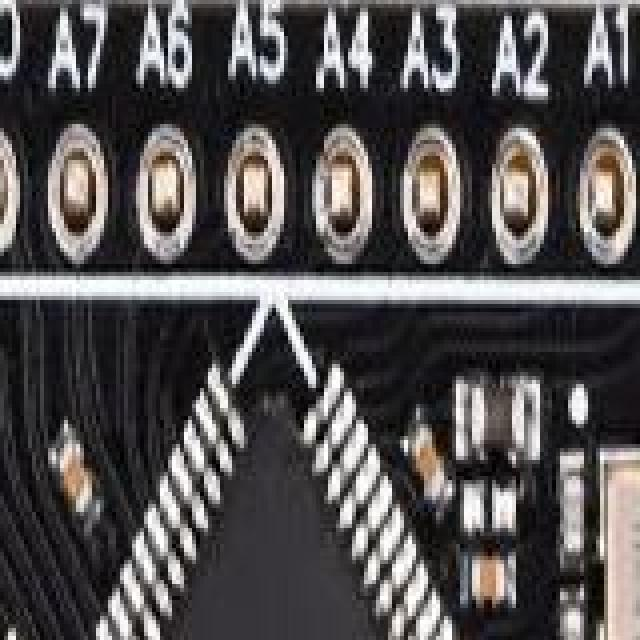IC: (135, 320, 404, 640)
capacitor: (50, 431, 92, 521), (408, 418, 446, 510), (468, 564, 516, 610), (564, 464, 582, 558), (568, 612, 584, 640), (11, 625, 22, 640)
clock: (600, 484, 640, 640)
inductor: (464, 380, 528, 454)
resistor: (468, 500, 510, 552)
